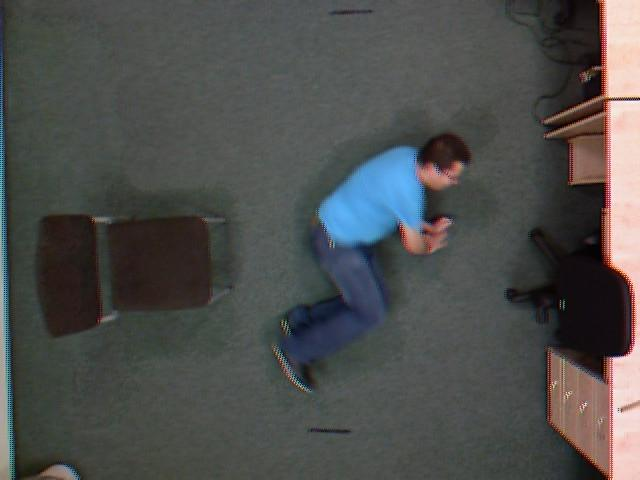fall: (271, 129, 469, 401)
